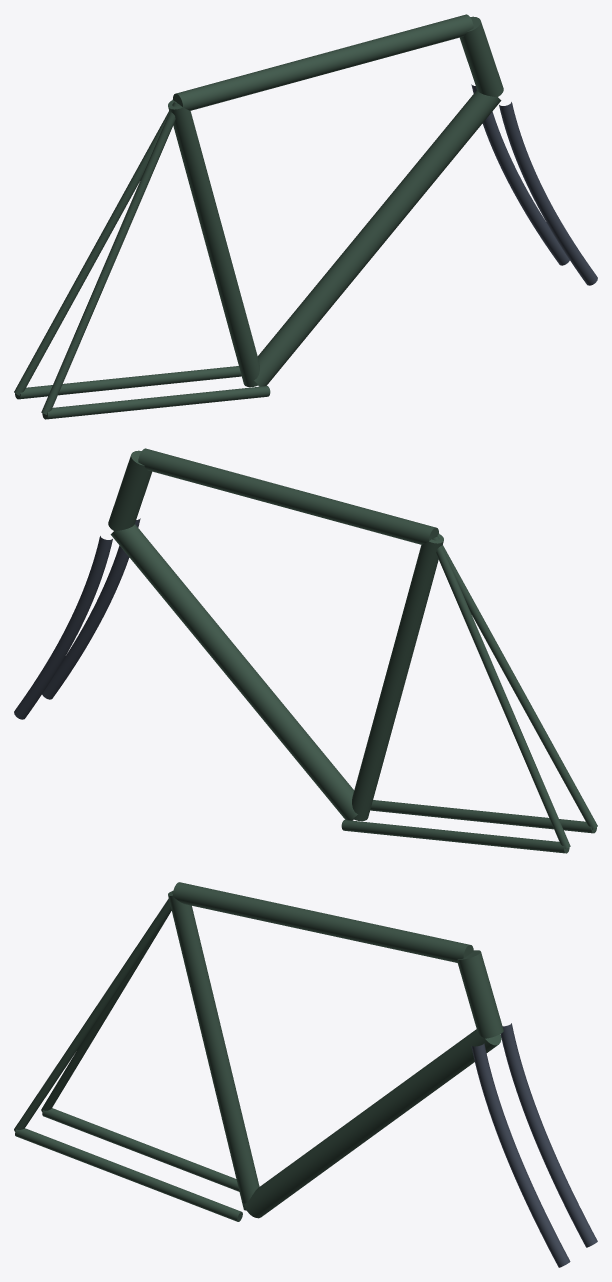
File: skream-ranger-m.glb
The picture shows the model from 3 angles, top to bottom: view 1: azimuth 30°, elevation 25°; view 2: azimuth 150°, elevation 25°; view 3: azimuth 330°, elevation 25°; orthographic projection.
Visible parts, largest first — view 1: paint_down, paint_top, paint_seat, paint_seatstay_0.045, fork_0.045, paint_seatstay_-0.045, paint_chainstay_0.045, paint_chainstay_-0.045, fork_-0.045, paint_head; view 2: paint_down, paint_top, paint_seat, paint_seatstay_-0.045, fork_-0.045, paint_seatstay_0.045, paint_chainstay_-0.045, paint_chainstay_0.045, fork_0.045, paint_head; view 3: paint_down, paint_seat, paint_top, fork_0.045, fork_-0.045, paint_chainstay_0.045, paint_seatstay_0.045, paint_chainstay_-0.045, paint_head, paint_seatstay_-0.045.
Part boxes in pixels (x1=…): paint_down: x1=254, y1=90, x2=501, y2=386; paint_top: x1=172, y1=14, x2=473, y2=110; paint_seat: x1=168, y1=100, x2=259, y2=387; paint_seatstay_0.045: x1=41, y1=102, x2=179, y2=414; fork_0.045: x1=499, y1=102, x2=597, y2=285; paint_seatstay_-0.045: x1=14, y1=101, x2=176, y2=395; paint_chainstay_0.045: x1=42, y1=386, x2=270, y2=419; paint_chainstay_-0.045: x1=15, y1=366, x2=241, y2=399; fork_-0.045: x1=471, y1=84, x2=569, y2=265; paint_head: x1=460, y1=16, x2=503, y2=96; paint_down: x1=110, y1=524, x2=357, y2=820; paint_top: x1=138, y1=448, x2=439, y2=544; paint_seat: x1=352, y1=534, x2=443, y2=821; paint_seatstay_-0.045: x1=432, y1=536, x2=570, y2=848; fork_-0.045: x1=14, y1=536, x2=112, y2=719; paint_seatstay_0.045: x1=435, y1=535, x2=597, y2=829; paint_chainstay_-0.045: x1=341, y1=820, x2=569, y2=853; paint_chainstay_0.045: x1=370, y1=800, x2=596, y2=833; fork_0.045: x1=42, y1=518, x2=140, y2=699; paint_head: x1=108, y1=450, x2=151, y2=530; paint_down: x1=244, y1=1029, x2=501, y2=1218; paint_seat: x1=168, y1=891, x2=259, y2=1210; paint_top: x1=172, y1=882, x2=473, y2=962; fork_0.045: x1=471, y1=1043, x2=570, y2=1267; fork_-0.045: x1=500, y1=1023, x2=597, y2=1247; paint_chainstay_0.045: x1=15, y1=1128, x2=242, y2=1221; paint_seatstay_0.045: x1=14, y1=892, x2=172, y2=1131; paint_chainstay_-0.045: x1=42, y1=1108, x2=239, y2=1191; paint_head: x1=457, y1=950, x2=503, y2=1038; paint_seatstay_-0.045: x1=41, y1=910, x2=171, y2=1112.
Size of the model in its own units: 1.05 by 0.5834 by 0.112.
